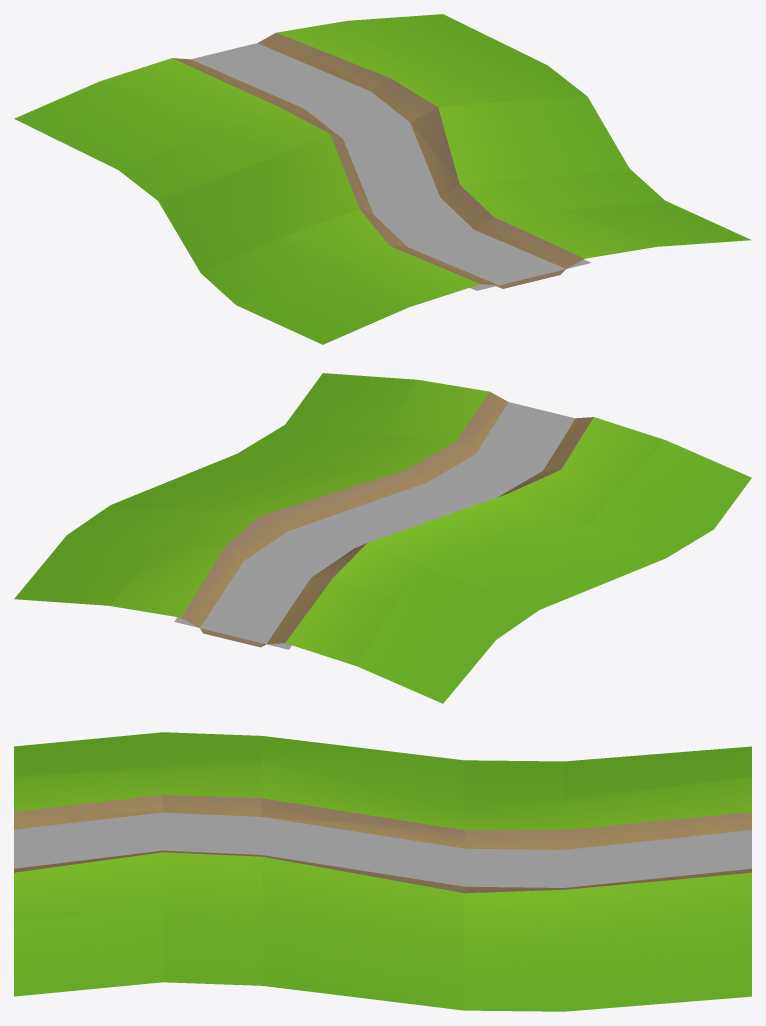
Rendered from Creek2.fbx.
3 views of the same model, one above another, from view 1: azimuth 30°, elevation 25°; view 2: azimuth 150°, elevation 25°; view 3: azimuth 270°, elevation 25° (orthographic). The views are drawn at different scales.
Parts seen in each view (by area): view 1: Creek2, Creek2_Water; view 2: Creek2, Creek2_Water; view 3: Creek2, Creek2_Water.
Boxes of the visible parts, <box> form: Creek2: <box>14,14,751,344</box>; Creek2_Water: <box>191,43,591,290</box>; Creek2: <box>14,373,751,703</box>; Creek2_Water: <box>174,402,574,649</box>; Creek2: <box>14,732,751,1011</box>; Creek2_Water: <box>14,812,751,887</box>.
Bounding box in the file's own units: 22.25 × 1.13 × 24.83.
